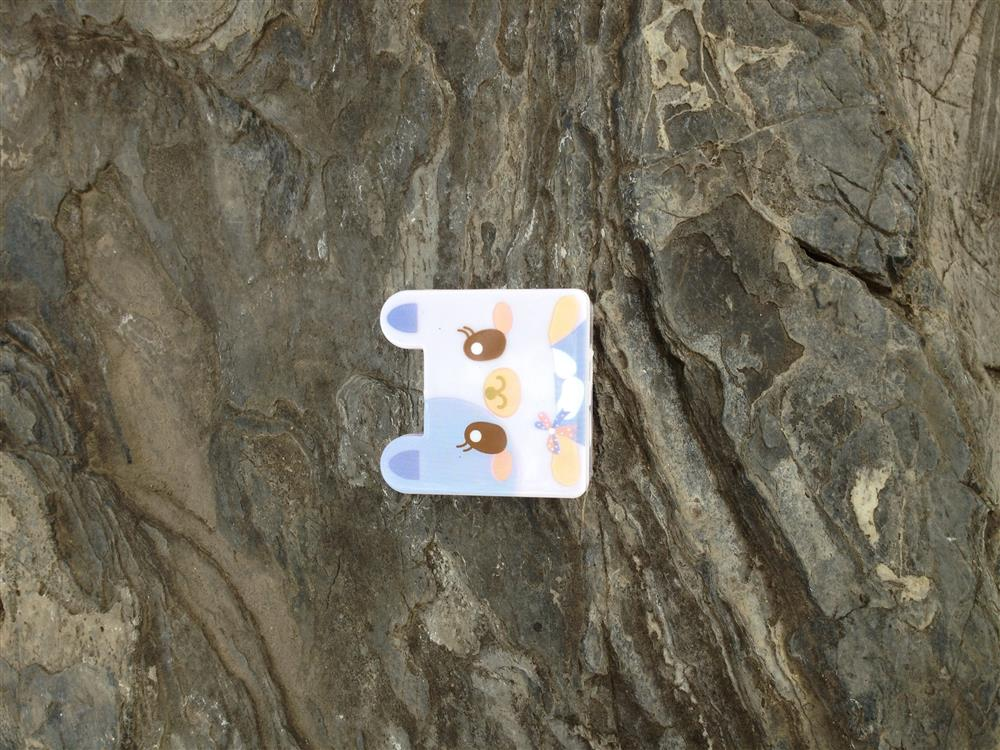dog_sharpener: (377, 288, 594, 498)
